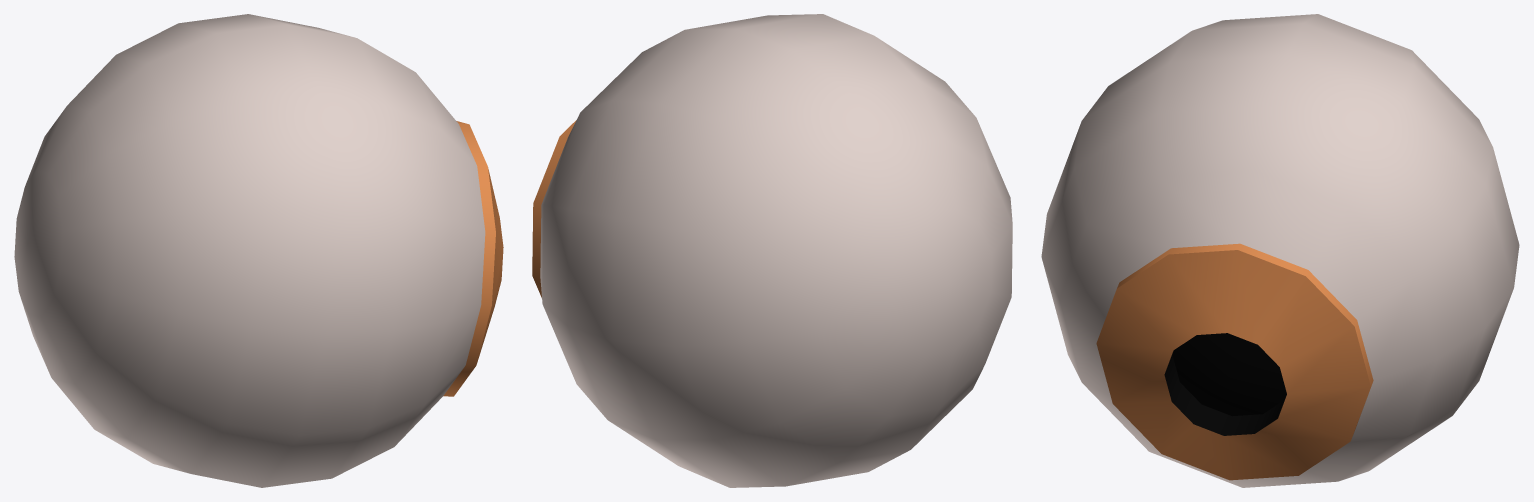
The model's file is eyeball color.fbx.
3 views of the same model, side by side, from view 1: azimuth 30°, elevation 25°; view 2: azimuth 150°, elevation 25°; view 3: azimuth 270°, elevation 25° (orthographic).
Parts seen in each view (by area): view 1: eyeball; view 2: eyeball; view 3: eyeball.
Boxes of the visible parts, x1=… form: eyeball: x1=14, y1=14, x2=503, y2=487; eyeball: x1=532, y1=14, x2=1012, y2=487; eyeball: x1=1041, y1=14, x2=1519, y2=487.
Size of the model in its own units: 61.16 by 59.41 by 59.96.
